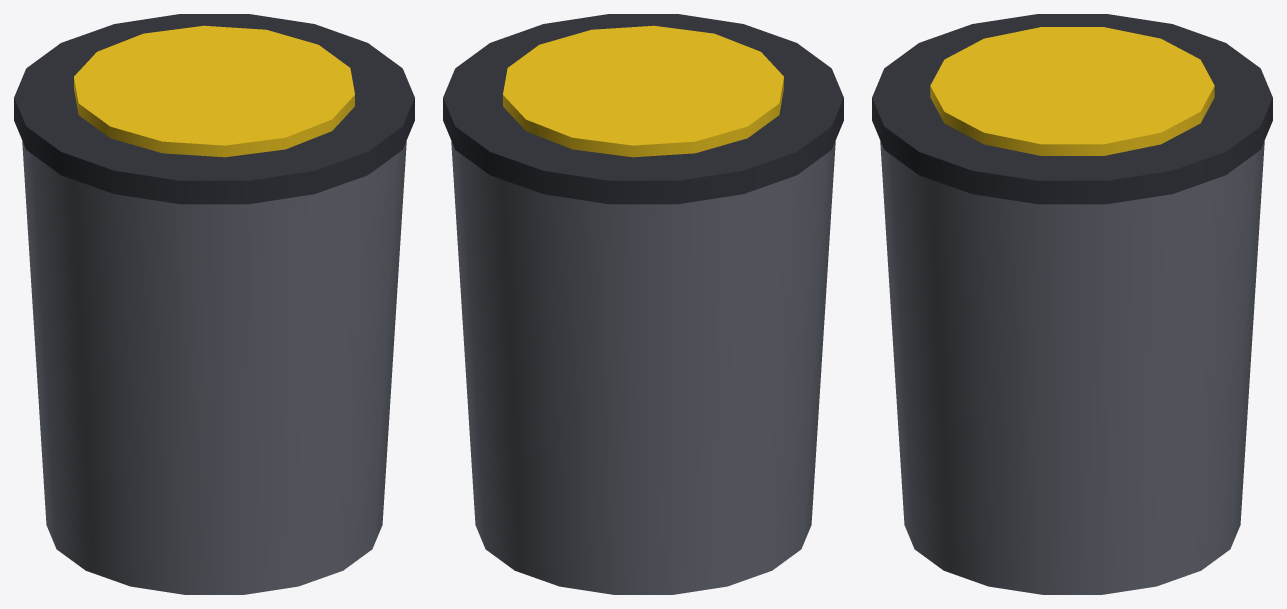
File: lixeira.obj
3 renders of one model, left to right at view 1: azimuth 30°, elevation 25°; view 2: azimuth 150°, elevation 25°; view 3: azimuth 270°, elevation 25°, orthographic.
Visible parts, largest first — view 1: lixeira; view 2: lixeira; view 3: lixeira.
Part boxes in pixels (left/top/right/bottom): lixeira: left=14, top=14, right=414, bottom=594; lixeira: left=443, top=14, right=843, bottom=594; lixeira: left=872, top=14, right=1272, bottom=594.
Size of the model in its own units: 0.3053 by 0.375 by 0.31.
